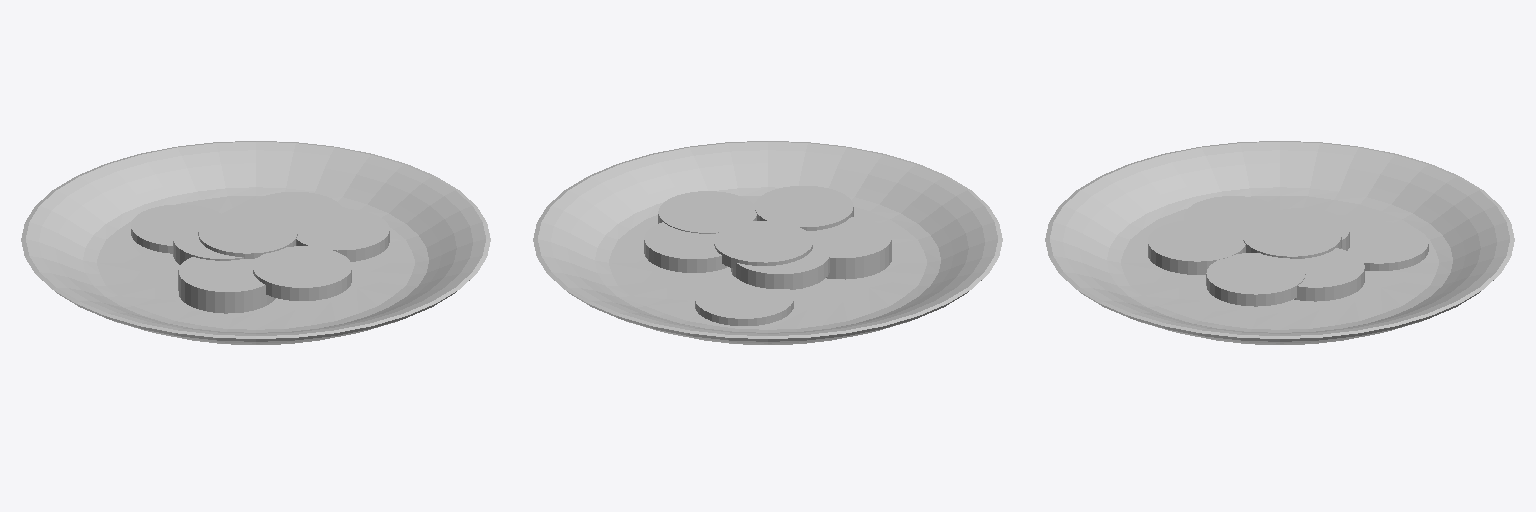
File: kue bakwan sayur.obj
3 views of the same model, side by side, from view 1: azimuth 30°, elevation 25°; view 2: azimuth 150°, elevation 25°; view 3: azimuth 270°, elevation 25° (orthographic).
Visible parts, largest first — view 1: Cylinder, Cylinder.005, Cylinder.006, Cylinder.004, Cylinder.003, Cylinder.008, Cylinder.001, Cylinder.002; view 2: Cylinder, Cylinder.003, Cylinder.008, Cylinder.006, Cylinder.005, Cylinder.004, Cylinder.001, Cylinder.002; view 3: Cylinder, Cylinder.004, Cylinder.005, Cylinder.003, Cylinder.008, Cylinder.001, Cylinder.006, Cylinder.002.
Part boxes in pixels (x1,y1,x2,y2): Cylinder: (21,141,490,344); Cylinder.005: (253,246,351,300); Cylinder.006: (178,257,275,313); Cylinder.004: (293,209,389,261); Cylinder.003: (198,212,297,258); Cylinder.008: (131,204,222,253); Cylinder.001: (245,192,342,223); Cylinder.002: (173,218,243,264); Cylinder: (533,141,1002,344); Cylinder.003: (714,221,812,268); Cylinder.008: (695,277,793,325); Cylinder.006: (807,217,891,279); Cylinder.005: (755,186,853,230); Cylinder.004: (658,191,756,233); Cylinder.001: (644,222,727,272); Cylinder.002: (731,237,829,289); Cylinder: (1045,141,1514,344); Cylinder.004: (1206,253,1305,306); Cylinder.005: (1148,220,1245,274); Cylinder.003: (1243,215,1341,258); Cylinder.008: (1348,222,1428,270); Cylinder.001: (1293,248,1364,301); Cylinder.006: (1184,196,1279,231); Cylinder.002: (1254,208,1349,250).
Bounding box in the file's own units: 2.31 × 0.2095 × 2.31.